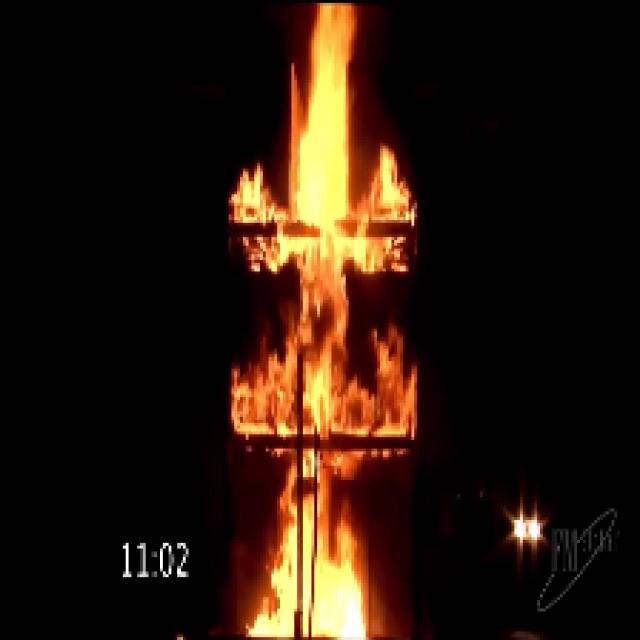fire: (251, 8, 380, 637)
